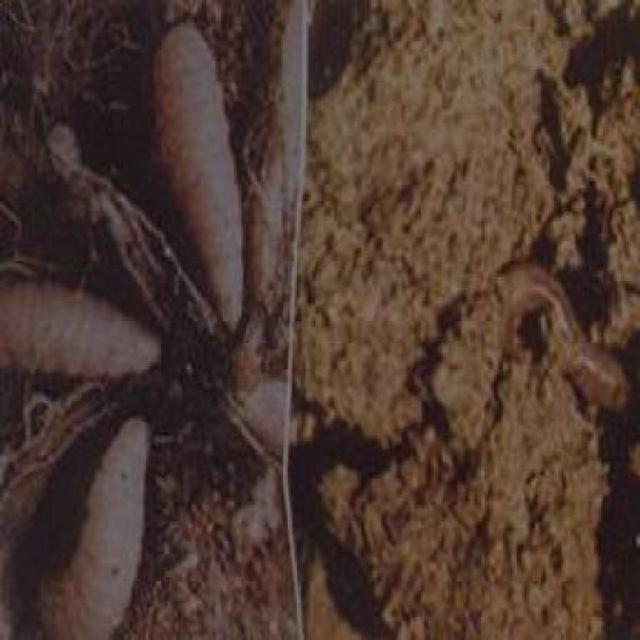whorl-maggot: (151, 20, 246, 330), (39, 412, 156, 640), (4, 287, 164, 379)
